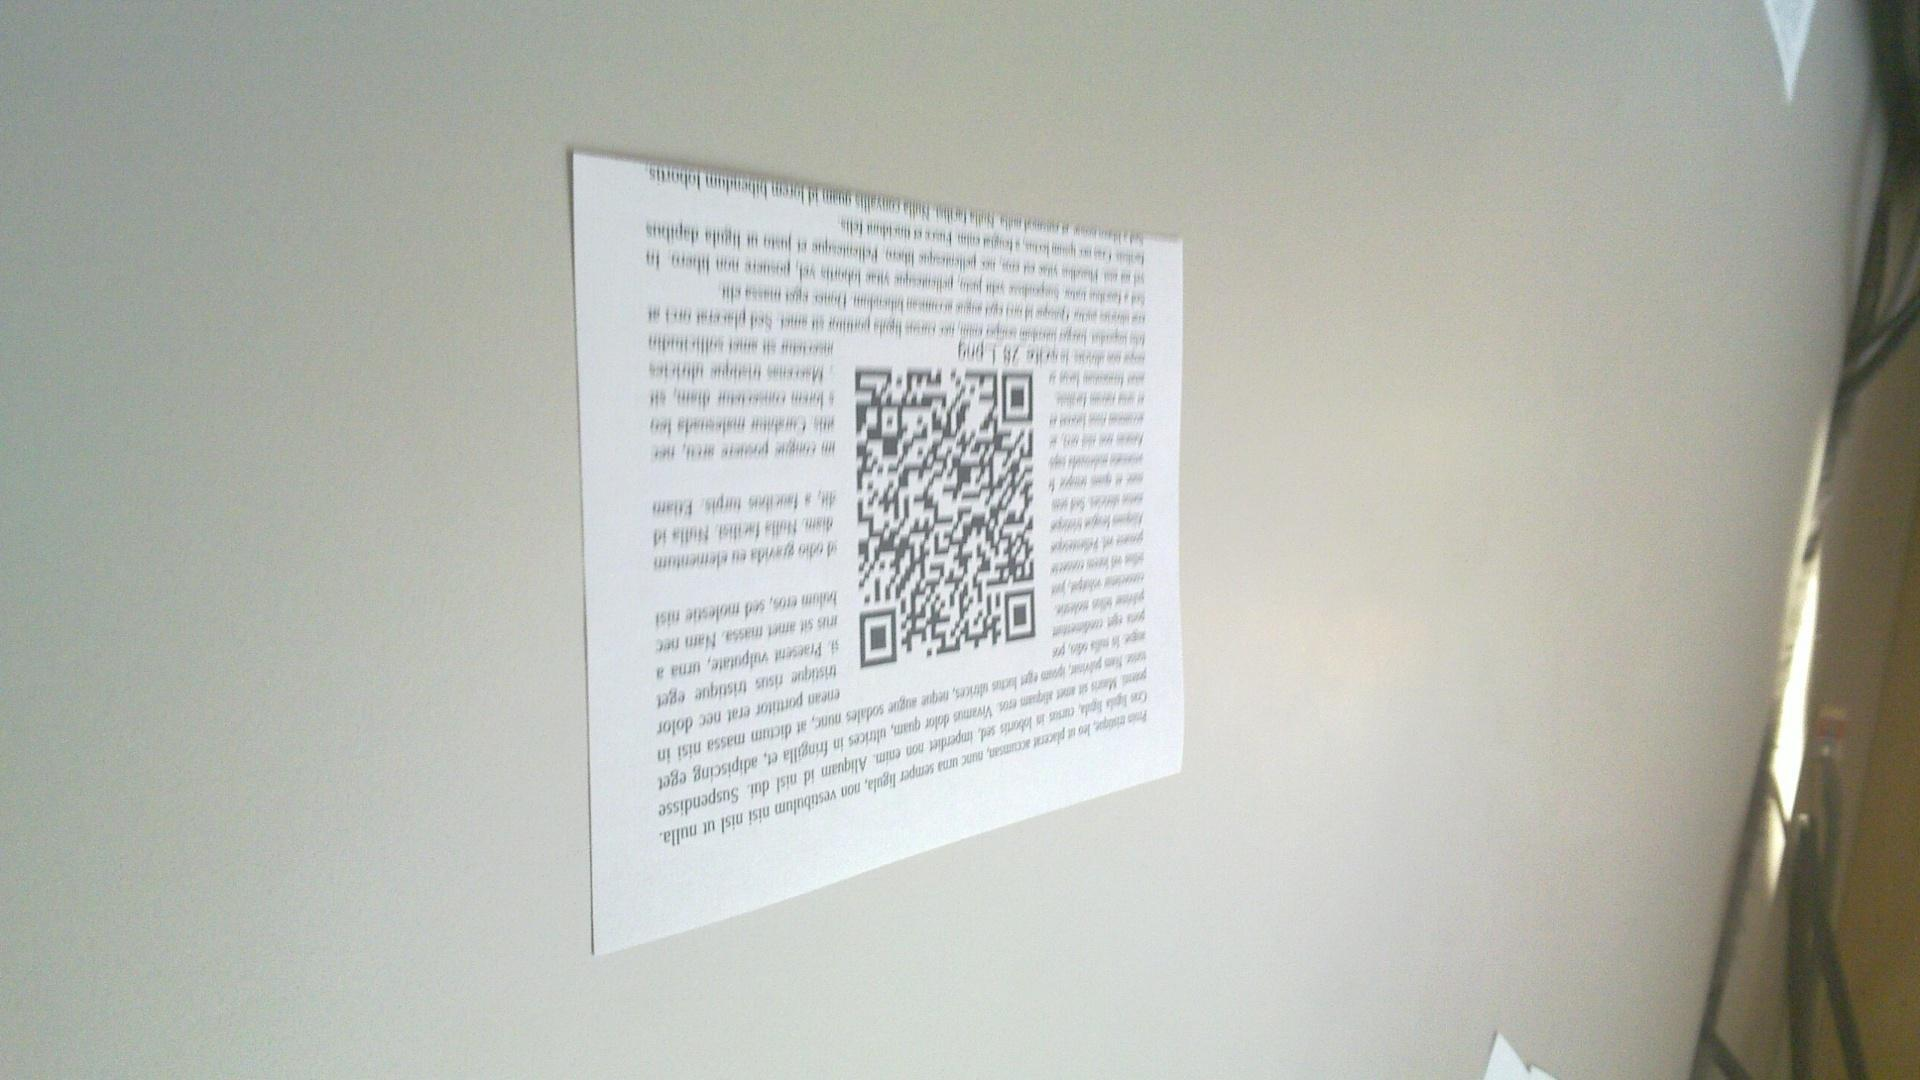Finder pattern: (853, 605, 901, 675), (998, 364, 1038, 427), (1000, 585, 1036, 645)
